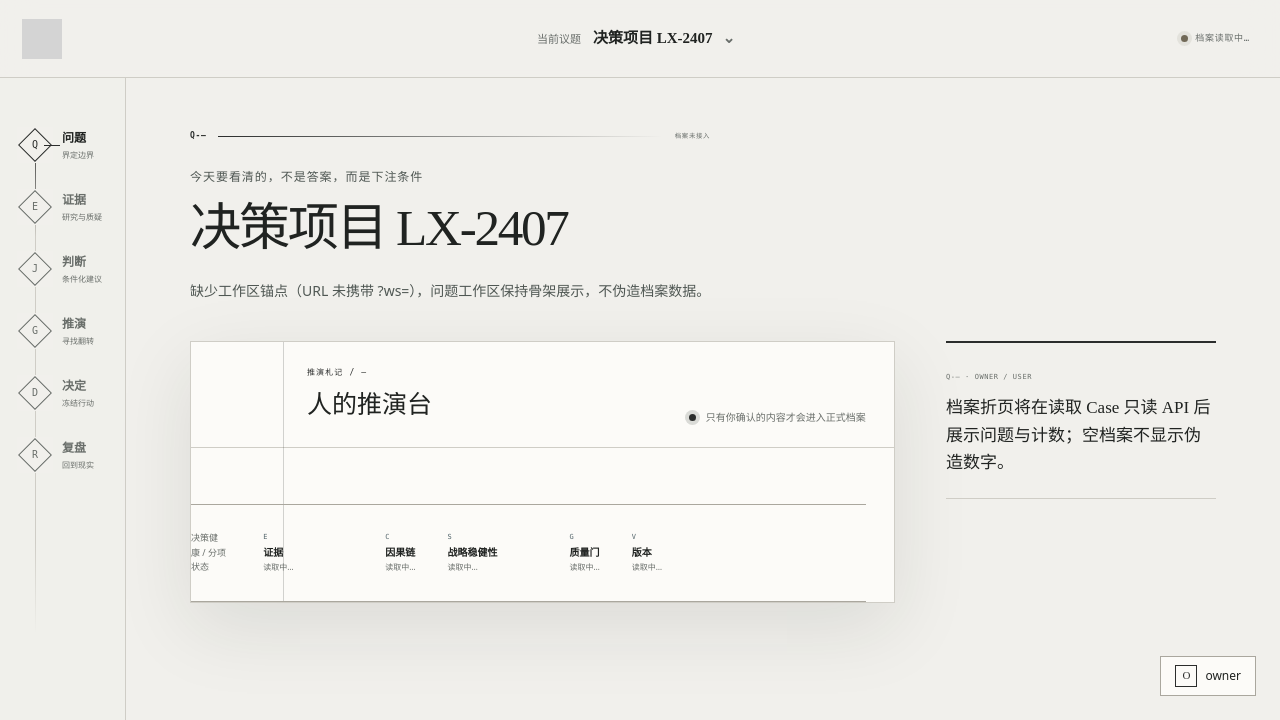
Test case: QA adversarial: caseListRouteAvailable flag flip › flipping caseListRouteAvailable to true renders without crashing and drops the per-entry gap note
The width and height of the screenshot is (1280, 720).
Click the button "决策项目 LX-2407 ⌄" at coordinates (664, 38), box [593,19,735,58]
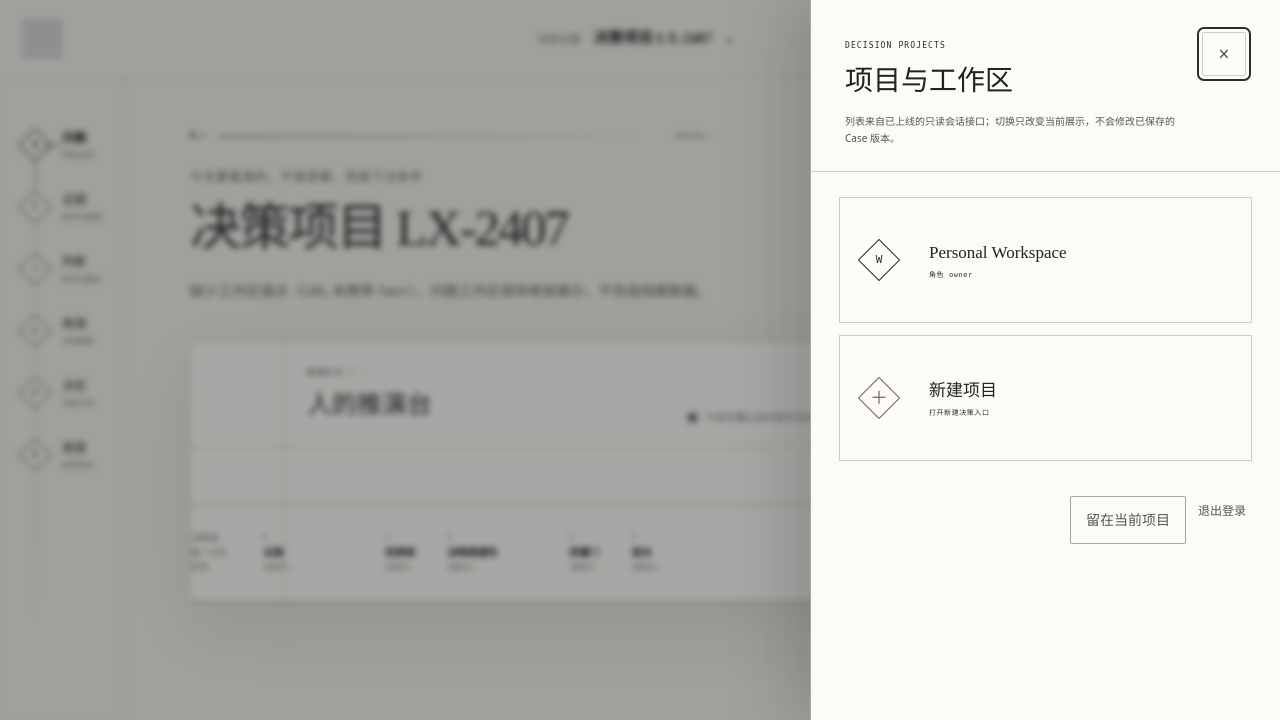
Expected: the text "Personal Workspace" is shown, [929,243,1067,262]
// The drawer itself survives the flip: no crash, close still works.
Press Escape
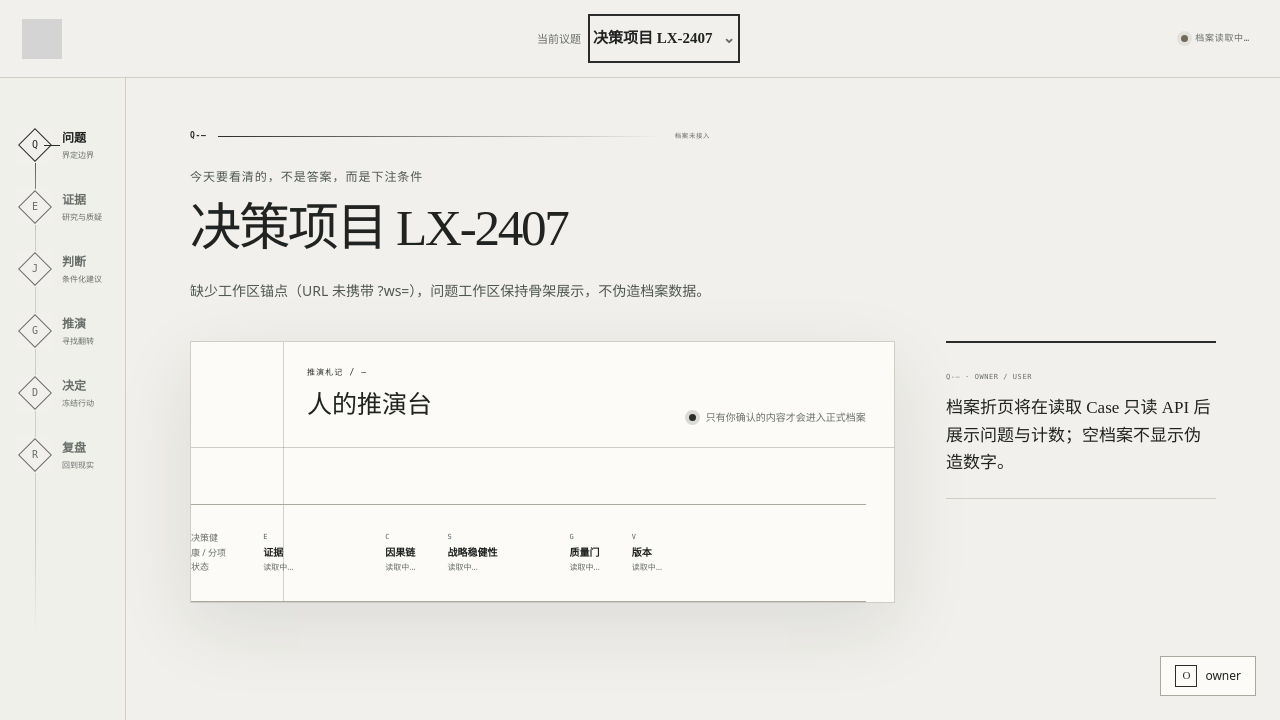
Expected: the dialog is gone
